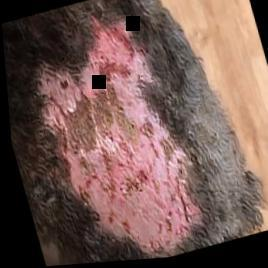skin_lesions: (11, 0, 215, 267)
